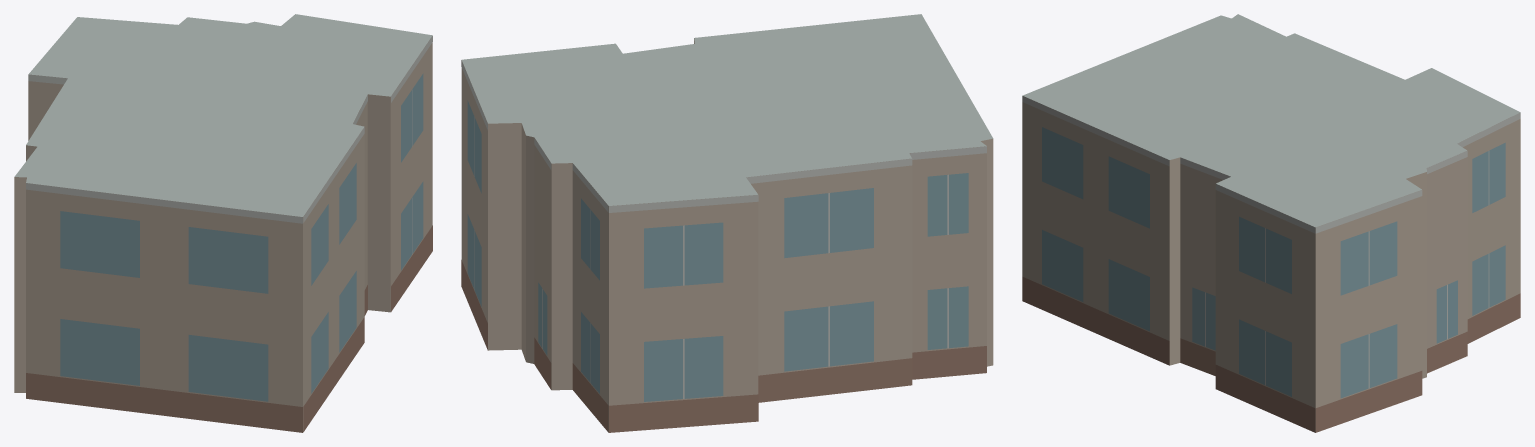
Rendered from survey-upis-32631473.glb.
3 renders of one model, left to right at view 1: azimuth 30°, elevation 25°; view 2: azimuth 150°, elevation 25°; view 3: azimuth 270°, elevation 25°, orthographic. The views are drawn at different scales.
Visible parts, largest first — view 1: survey-upis-32631473.tmp; view 2: survey-upis-32631473.tmp; view 3: survey-upis-32631473.tmp.
Part boxes in pixels (x1,y1,x2,y2): survey-upis-32631473.tmp: [14, 14, 432, 432]; survey-upis-32631473.tmp: [461, 14, 993, 432]; survey-upis-32631473.tmp: [1022, 14, 1520, 432].
Size of the model in its own units: 17.61 by 7.9 by 17.37.
